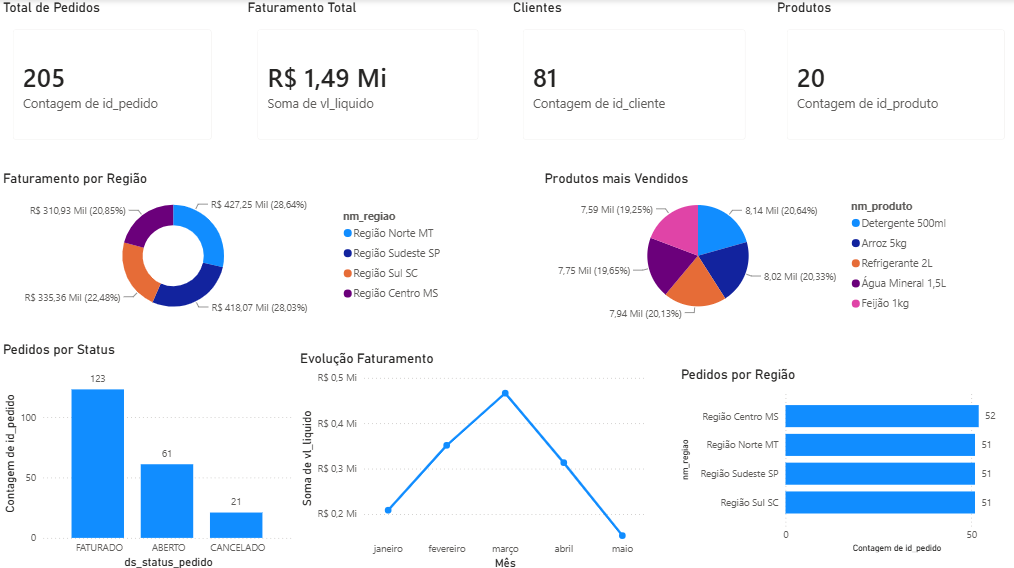

Layout of this report page (visuals, bound fields, positions):
{"tool":"powerbi","page":{"name":"Página 1","canvas":[1280,720],"ordinal":0},"visuals":[{"type":"lineChart","title":"Evolução Faturamento","fields":{"Y":["Sum(erp pedido.vl_liquido)"],"Category":["erp pedido.dt_emissao.Variation.Hierarquia de datas.Mês"]},"box":[374,440,444,280],"z":0},{"type":"donutChart","title":"Faturamento por Região","fields":{"Category":["erp regiao.nm_regiao"],"Y":["Sum(erp pedido.vl_liquido)"]},"box":[0,214,568,194],"z":1000},{"type":"columnChart","title":"Pedidos por Status","fields":{"Category":["erp pedido.ds_status_pedido"],"Y":["CountNonNull(erp pedido.id_pedido)"]},"box":[0,430,374,290],"z":2000},{"type":"pieChart","title":"Produtos mais Vendidos","fields":{"Category":["erp produto.nm_produto"],"Y":["Sum(erp pedido_item.qt_item)"]},"box":[680,214,524,194],"z":3000},{"type":"clusteredBarChart","title":"Pedidos por Região","fields":{"Category":["erp regiao.nm_regiao"],"Y":["CountNonNull(erp pedido.id_pedido)"]},"box":[852,462,428,238],"z":4000},{"type":"cardVisual","title":"Total de Pedidos","fields":{"Data":["CountNonNull(erp pedido.id_pedido)"]},"box":[0,0,284,194],"z":5000},{"type":"cardVisual","title":"Faturamento Total","fields":{"Data":["Sum(erp pedido.vl_liquido)"]},"box":[308,0,312,194],"z":6000},{"type":"cardVisual","title":"Clientes","fields":{"Data":["CountNonNull(erp cliente.id_cliente)"]},"box":[640,0,314,194],"z":7000},{"type":"cardVisual","title":"Produtos","fields":{"Data":["CountNonNull(erp produto.id_produto)"]},"box":[972,0,308,194],"z":8000}]}

Visuals, with their boxes in screenshot pixels (x1, y1, x2, y2), scaled from the page's 1280x720 canvas onto the 1014x568 screenshot:
"Evolução Faturamento" lineChart: box=[296, 347, 648, 567]
"Faturamento por Região" donutChart: box=[0, 169, 450, 322]
"Pedidos por Status" columnChart: box=[0, 339, 296, 567]
"Produtos mais Vendidos" pieChart: box=[539, 169, 954, 322]
"Pedidos por Região" clusteredBarChart: box=[675, 364, 1013, 552]
"Total de Pedidos" cardVisual: box=[0, 0, 225, 153]
"Faturamento Total" cardVisual: box=[244, 0, 491, 153]
"Clientes" cardVisual: box=[507, 0, 756, 153]
"Produtos" cardVisual: box=[770, 0, 1013, 153]
